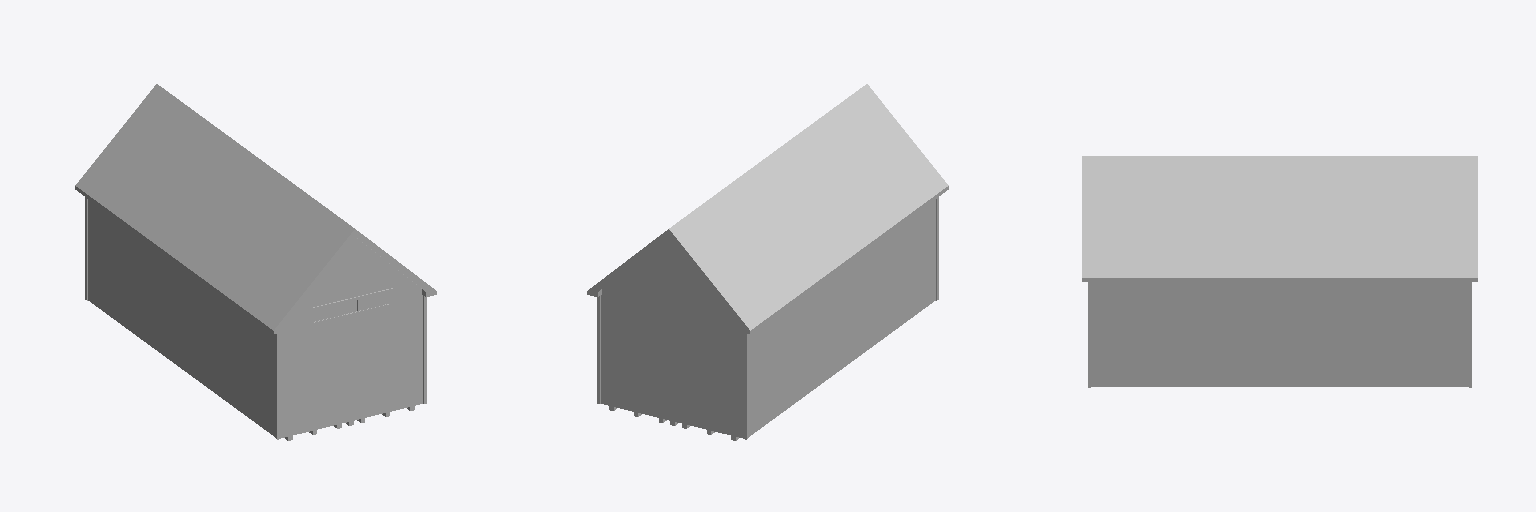
File: Elite Garage_12x26.obj
3 renders of one model, left to right at view 1: azimuth 30°, elevation 25°; view 2: azimuth 150°, elevation 25°; view 3: azimuth 270°, elevation 25°, orthographic.
Visible parts, largest first — view 1: Elite Garage_12x26.obj; view 2: Elite Garage_12x26.obj; view 3: Elite Garage_12x26.obj.
Boxes of the visible parts, box(x1,y1,x2,y2) form: Elite Garage_12x26.obj: box(75, 84, 436, 440); Elite Garage_12x26.obj: box(587, 84, 948, 440); Elite Garage_12x26.obj: box(1082, 156, 1477, 387).
Size of the model in its own units: 3.91 by 4.57 by 8.23.